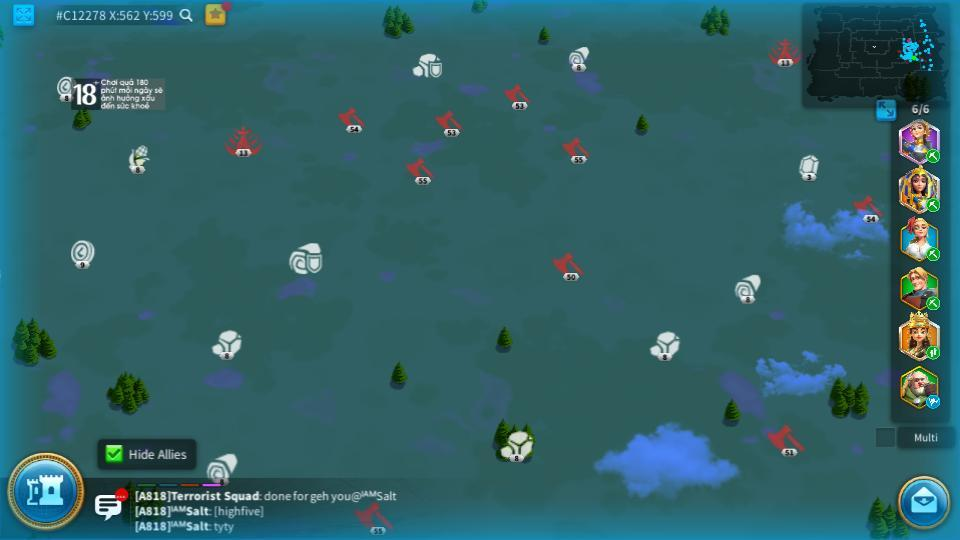gem-z-out: (799, 154, 818, 180)
march_idle: (925, 396, 942, 408)
march_marching: (925, 197, 941, 212), (925, 345, 941, 359), (925, 149, 941, 162), (926, 297, 941, 308)
